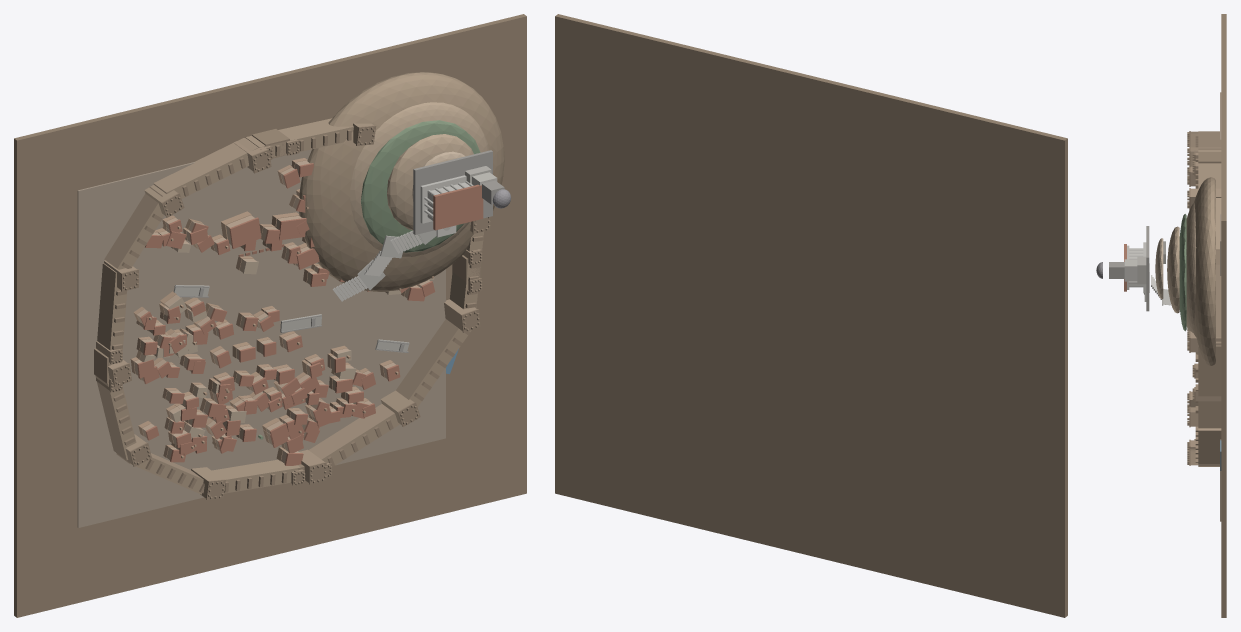
Rendered from Ehlehuak_v2.glb.
The picture shows the model from 3 angles, left to right: view 1: azimuth 30°, elevation 25°; view 2: azimuth 150°, elevation 25°; view 3: azimuth 270°, elevation 25°; orthographic projection. The views are drawn at different scales.
Visible parts, largest first — view 1: Ground_Base, City_Terrace, Hill_Base, Hill_Green_Mid, Hill_Mid, Hill_Upper, Wall_2, Wall_7, Acropolis_Platform, Wall_8, Wall_1, Temple_Roof (+7 smaller); view 2: Ground_Base; view 3: Hill_Base, Ground_Base, Wall_6, Hill_Mid, Hill_Upper, Wall_7, Hill_Green_Mid, Wall_3, Hill_Summit, Wall_2, Wall_5, EastGate (+8 smaller).
Part boxes in pixels (x1,y1,x2,y2): Ground_Base: [14, 14, 526, 617]; City_Terrace: [77, 149, 445, 527]; Hill_Base: [299, 72, 504, 291]; Hill_Green_Mid: [361, 120, 480, 252]; Hill_Mid: [350, 102, 488, 256]; Hill_Upper: [387, 134, 473, 230]; Wall_2: [153, 138, 257, 198]; Wall_7: [396, 319, 471, 407]; Acropolis_Platform: [413, 150, 492, 234]; Wall_8: [309, 404, 399, 465]; Wall_1: [104, 187, 164, 269]; Temple_Roof: [433, 184, 483, 230]; Ground_Base: [555, 14, 1067, 617]; Hill_Base: [1193, 177, 1215, 365]; Ground_Base: [1221, 14, 1226, 617]; Wall_6: [1198, 345, 1221, 428]; Hill_Mid: [1186, 202, 1196, 332]; Hill_Upper: [1167, 226, 1179, 313]; Wall_7: [1198, 428, 1221, 466]; Hill_Green_Mid: [1179, 214, 1186, 331]; Wall_3: [1198, 150, 1221, 188]; Hill_Summit: [1155, 238, 1163, 299]; Wall_2: [1198, 131, 1221, 149]; Wall_5: [1216, 264, 1221, 343]; EastGate: [1198, 379, 1221, 396].
Bounding box in the file's own units: 380 × 340 × 101.
